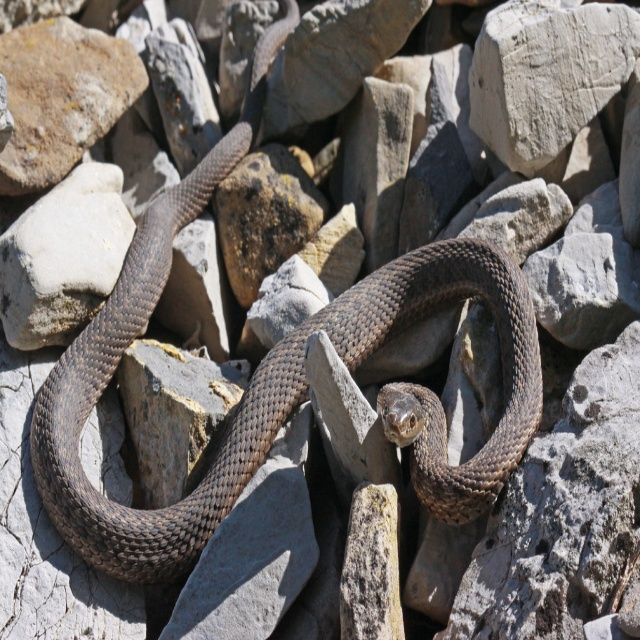Snake: (30, 0, 543, 585)
